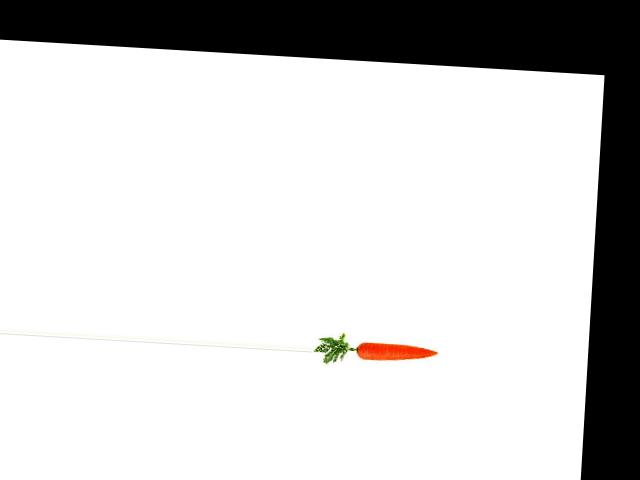carrot: (353, 338, 441, 366)
